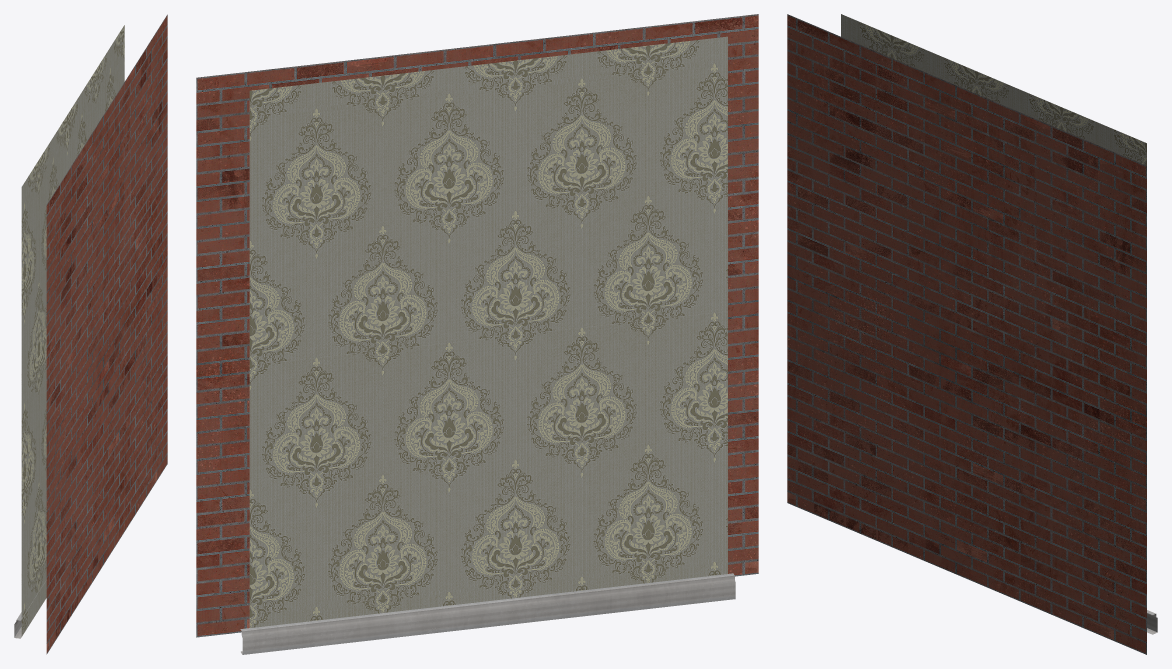
The model's file is House_07_Wall_07.fbx.
3 renders of one model, left to right at view 1: azimuth 30°, elevation 25°; view 2: azimuth 150°, elevation 25°; view 3: azimuth 270°, elevation 25°, orthographic. The views are drawn at different scales.
Parts seen in each view (by area): view 1: House_07_Wall_07; view 2: House_07_Wall_07; view 3: House_07_Wall_07.
Boxes of the visible parts, bbox=[...] form: House_07_Wall_07: bbox=[14, 14, 167, 654]; House_07_Wall_07: bbox=[196, 14, 758, 654]; House_07_Wall_07: bbox=[787, 14, 1157, 654].
Bounding box in the file's own units: 205 × 300 × 206.
